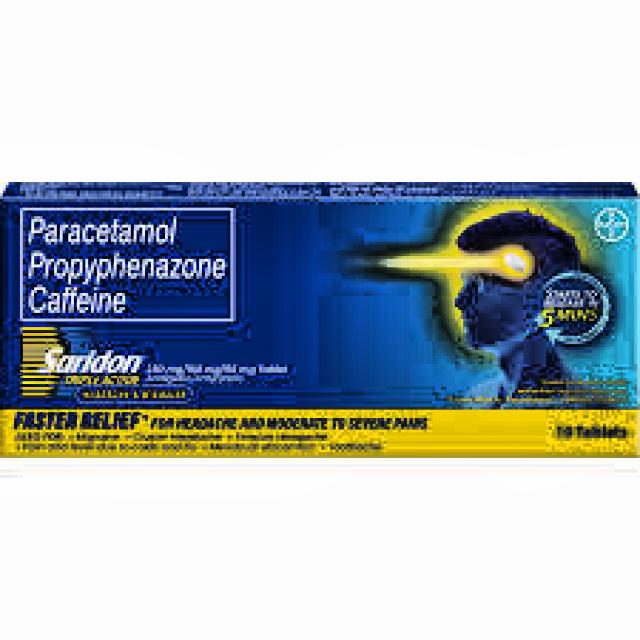Paracetamol: (10, 210, 278, 338)
